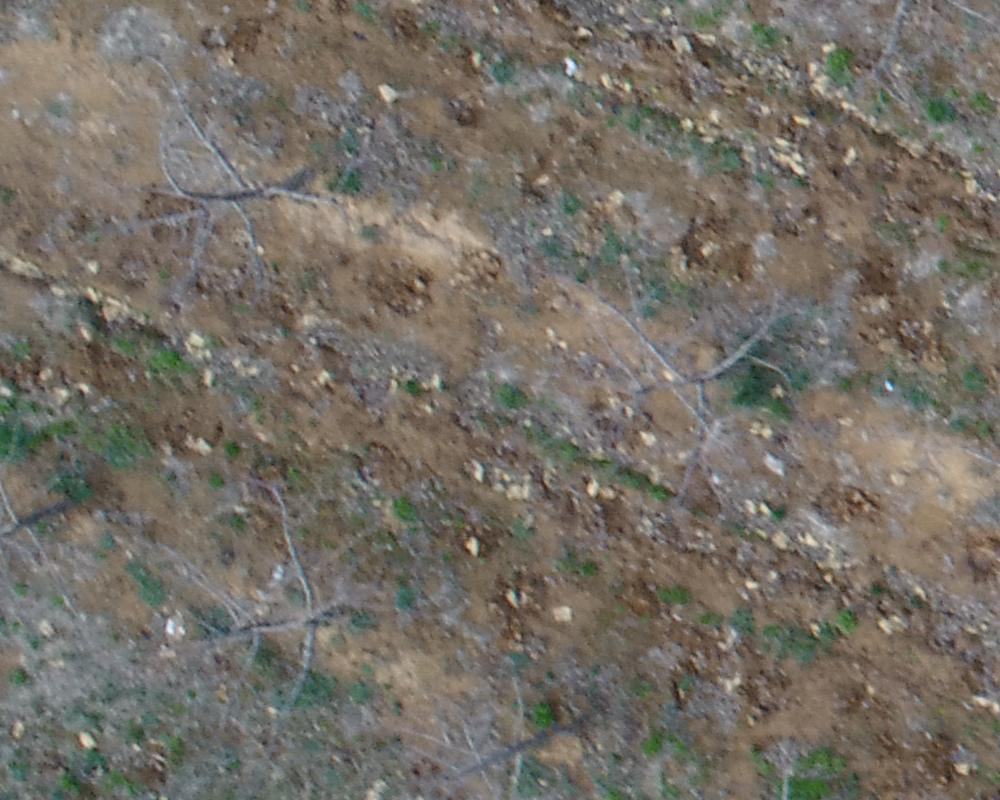apple: (134, 478, 437, 716), (558, 277, 816, 531), (75, 105, 378, 319), (373, 678, 622, 790)
